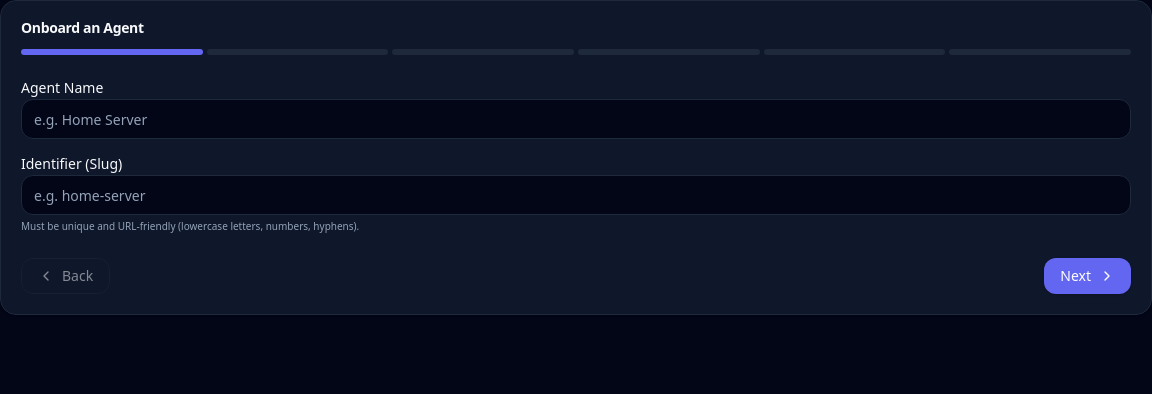
Test: OnboardingWizard › validates Identity step: shows error when slug is invalid
Type "My Node" into the field with placeholder "e.g. Home Server".
click(576, 119); type("My Node")  # box left=21, top=99, right=1131, bottom=139
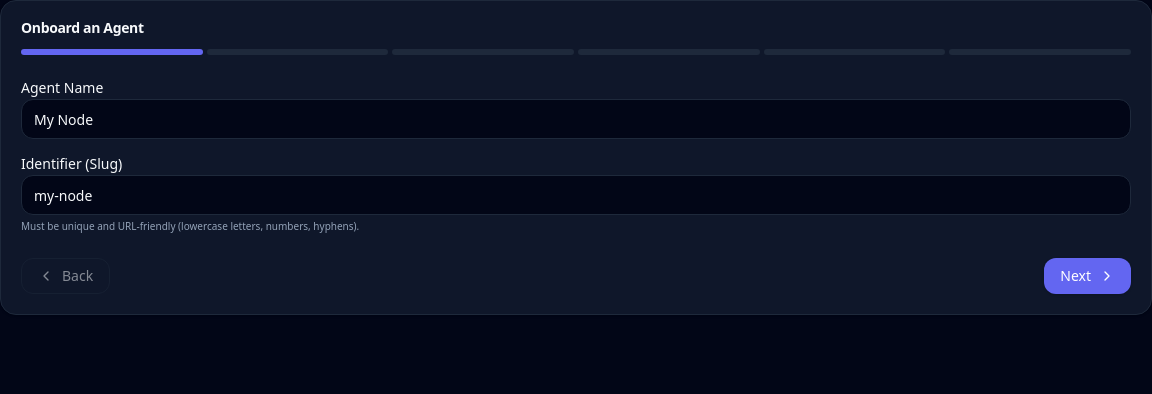
Replace the text in the field with placeholder "e.g. home-server" below "Identifier (Slug)" with "BadSlug!" at {"x": 576, "y": 195}, box left=21, top=175, right=1131, bottom=215
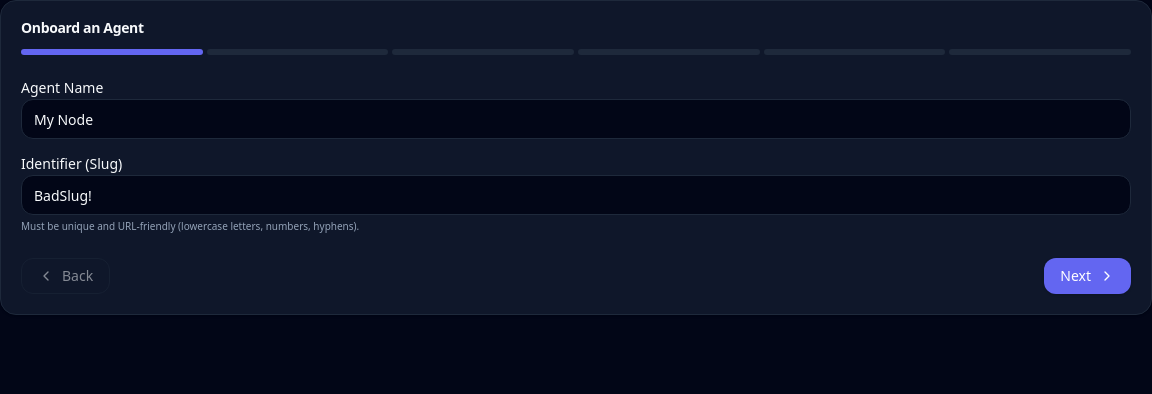
Click the button "Next".
click(1088, 276)  # box left=1044, top=258, right=1131, bottom=294
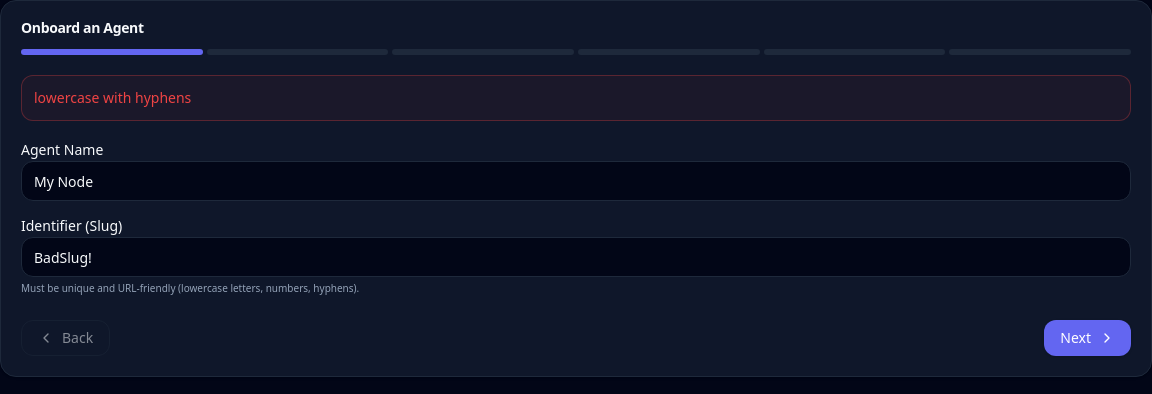
Check: the message "lowercase with hyphens" is shown, box left=21, top=75, right=1131, bottom=121
